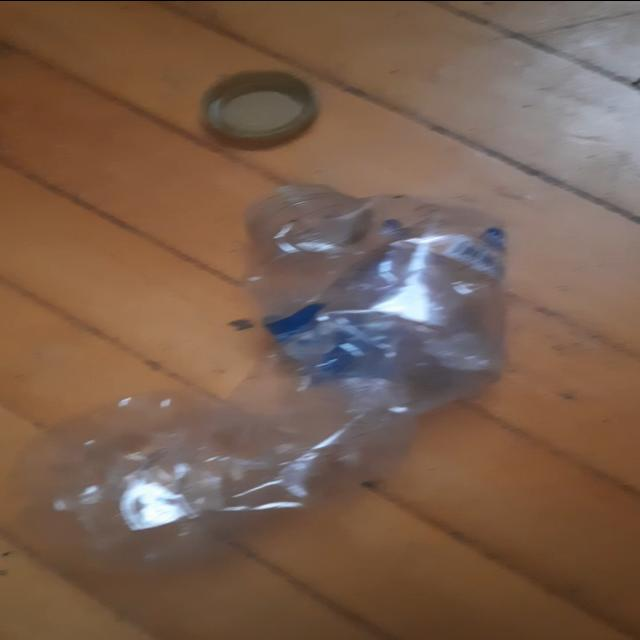Plastic: (12, 185, 510, 557)
